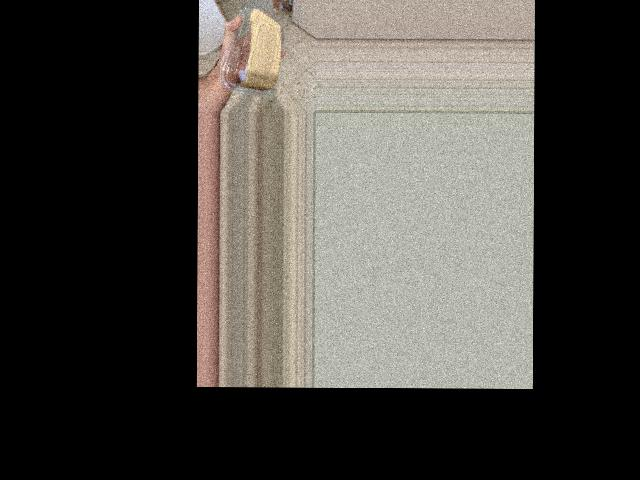cheese: (236, 26, 274, 101)
